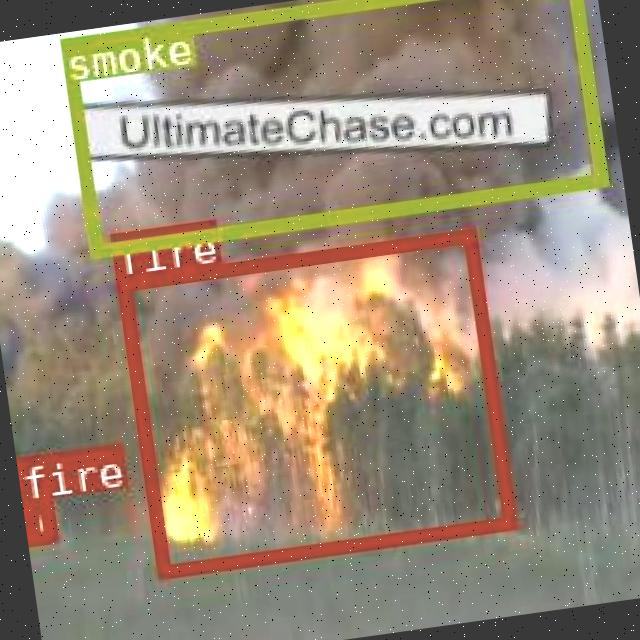fire: (116, 228, 514, 578), (22, 496, 53, 542)
smoke: (58, 0, 607, 254)
